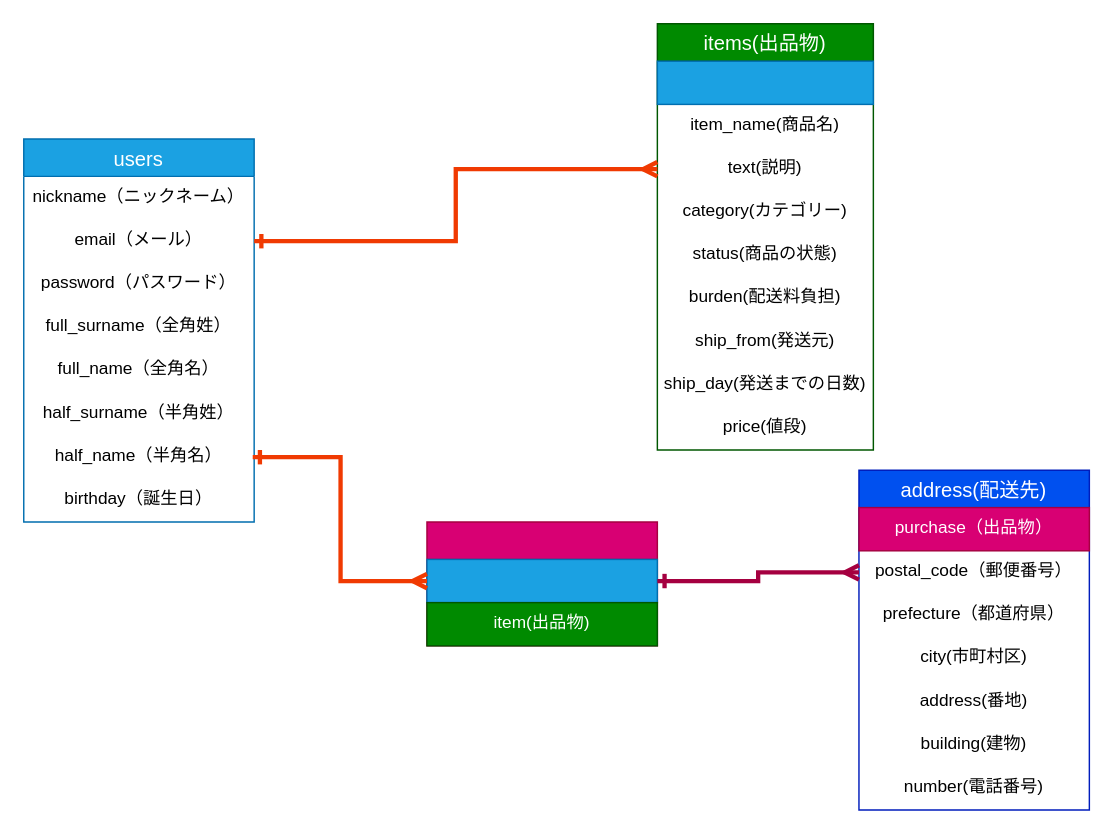
Image size: 1113x834. Some labels were removed from this diagram. Each missing label, with the box of its shape:
purchases(出品物購入): (426, 521, 657, 646)
user(出品者): (656, 60, 873, 104)
user(購入者): (426, 558, 657, 603)
